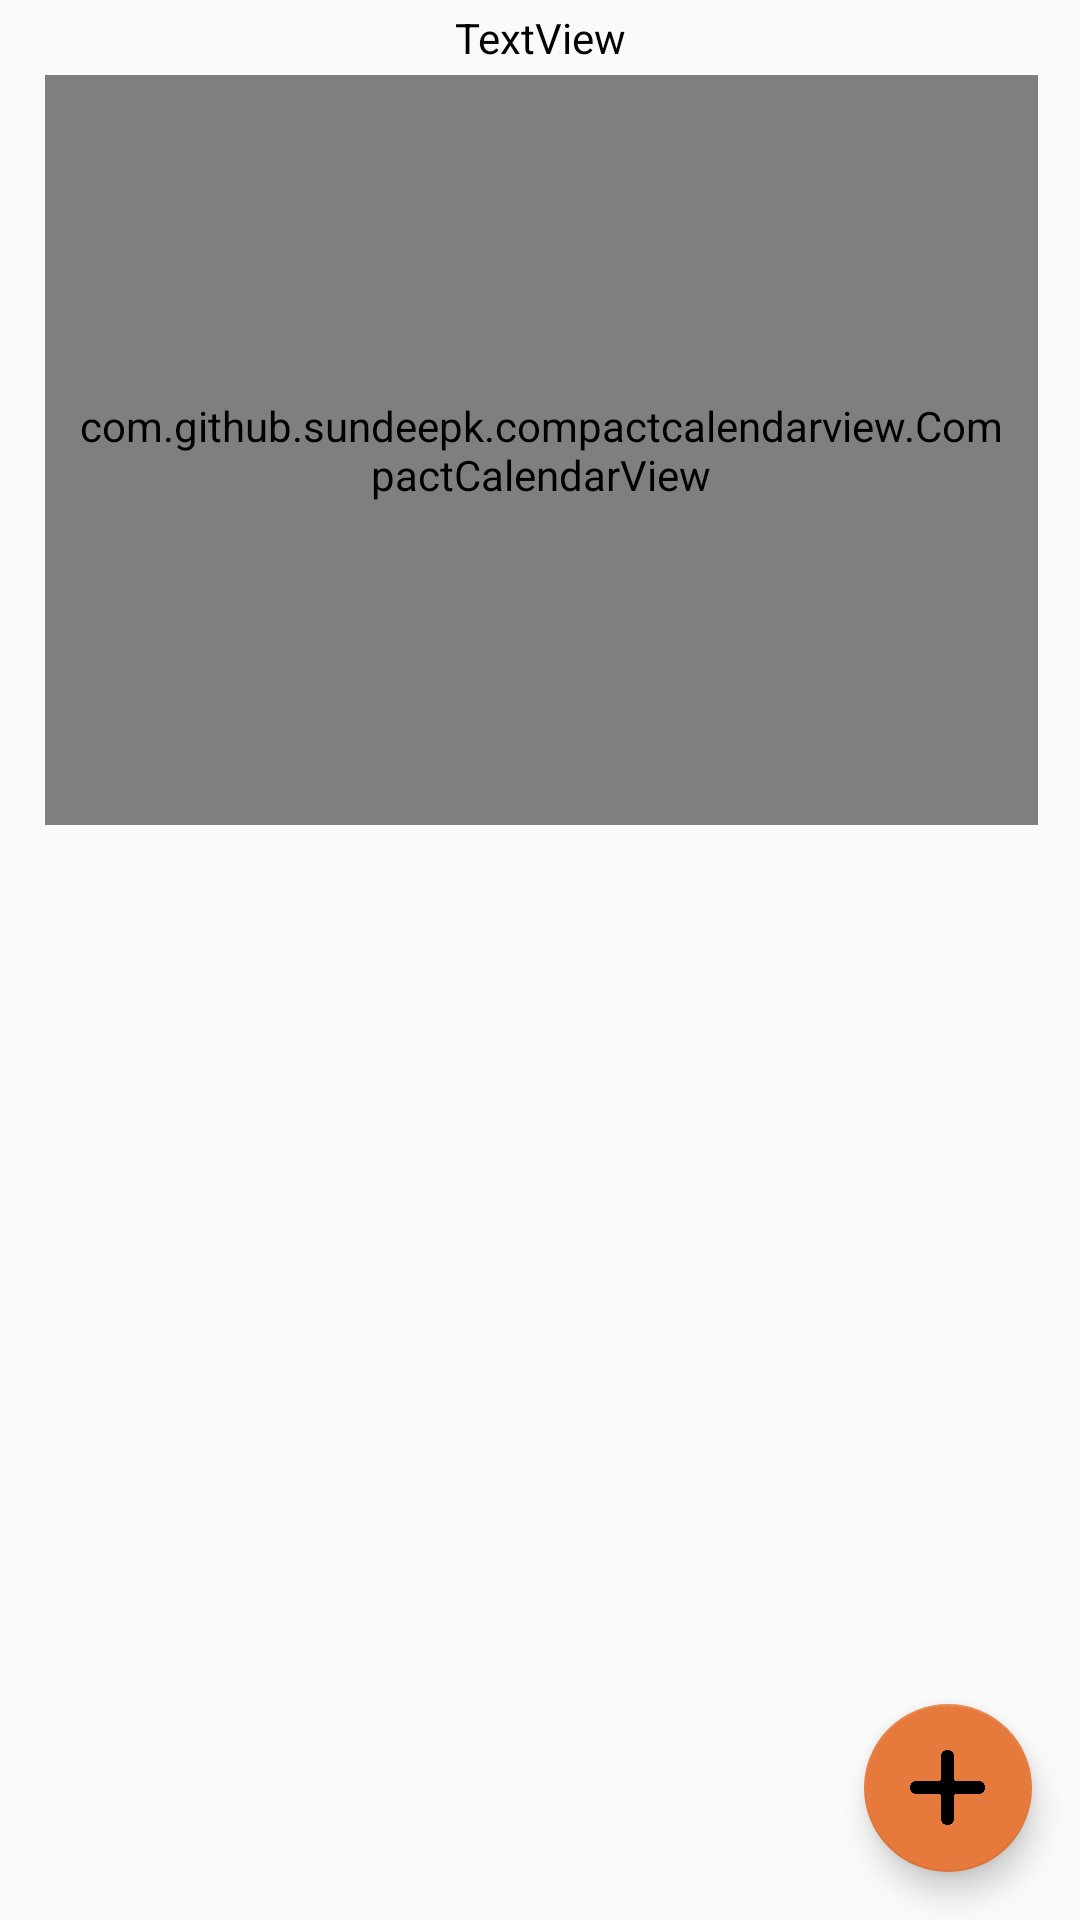

Icons on this 1080px x 1920px Android screen, each with its box as (x1, y1, x2, y2):
plus: (864, 1704, 1032, 1872)
